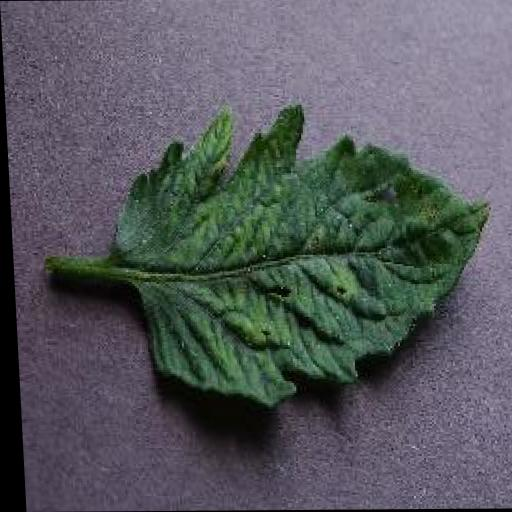Mosaic Virus: (101, 99, 499, 413)
